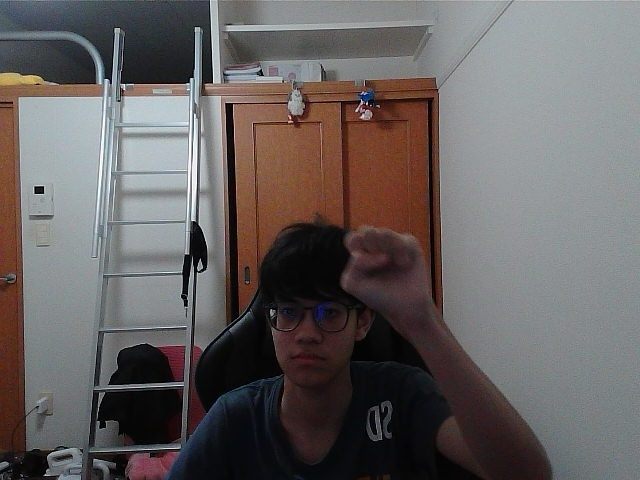closed_palm: (355, 235, 411, 303)
